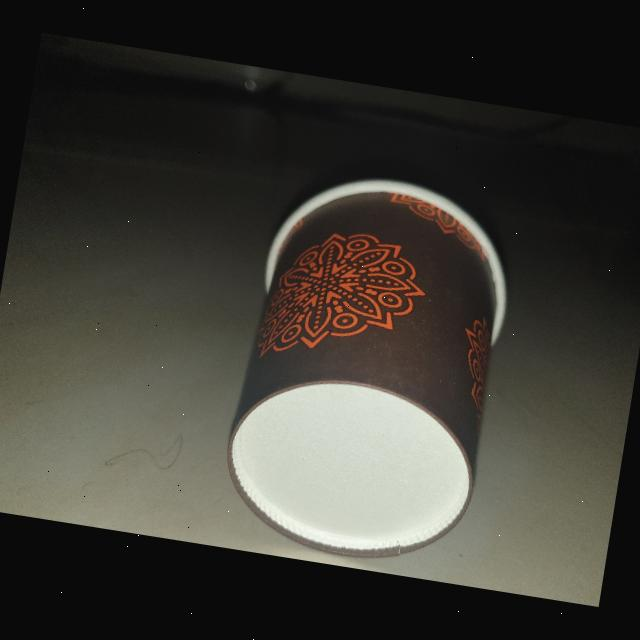trash: (200, 153, 532, 582)
